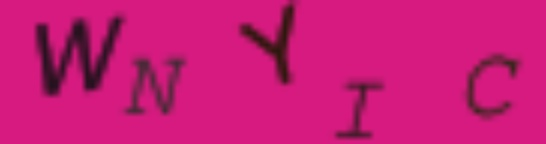C: (461, 53, 526, 119)
I: (334, 78, 382, 141)
N: (121, 57, 187, 119)
W: (31, 14, 124, 98)
Y: (239, 3, 299, 89)
